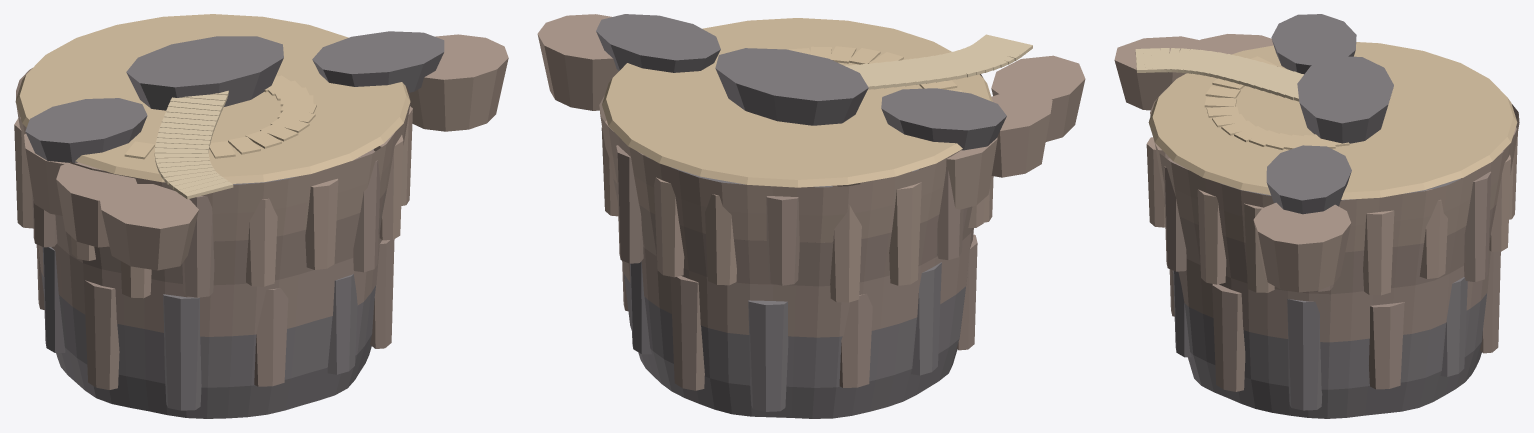
The model's file is world14-ruins-terrain.glb.
3 renders of one model, left to right at view 1: azimuth 30°, elevation 25°; view 2: azimuth 150°, elevation 25°; view 3: azimuth 270°, elevation 25°, orthographic. The views are drawn at different scales.
Visible parts, largest first — view 1: w14-ground-high-rock, w14-ground-strata, w14-ground-limestone, w14-ground-shadow-rock, w14-overhead-shadow-rock, w14-ground-paving, w14-ground-path; view 2: w14-ground-high-rock, w14-ground-strata, w14-ground-limestone, w14-ground-shadow-rock, w14-overhead-shadow-rock, w14-ground-paving, w14-ground-path; view 3: w14-ground-high-rock, w14-ground-limestone, w14-ground-strata, w14-ground-shadow-rock, w14-overhead-shadow-rock, w14-ground-paving, w14-ground-path.
Part boxes in pixels (x1,y1,x2,y2): w14-ground-high-rock: (14,34,508,298); w14-ground-strata: (32,150,394,389); w14-ground-limestone: (15,14,410,183); w14-ground-shadow-rock: (41,149,375,418); w14-overhead-shadow-rock: (25,31,444,162); w14-ground-paving: (154,90,233,199); w14-ground-path: (124,75,316,159); w14-ground-high-rock: (537,14,1085,302); w14-ground-strata: (613,145,977,390); w14-ground-limestone: (602,18,992,187); w14-ground-shadow-rock: (624,157,965,418); w14-overhead-shadow-rock: (596,14,1006,150); w14-ground-paving: (844,34,1032,89); w14-ground-path: (788,46,962,92); w14-ground-high-rock: (1114,34,1519,295); w14-ground-limestone: (1148,42,1517,199); w14-ground-strata: (1164,158,1500,391); w14-ground-shadow-rock: (1173,178,1486,418); w14-overhead-shadow-rock: (1266,14,1393,214); w14-ground-paving: (1135,48,1303,101); w14-ground-path: (1204,56,1349,149).
Bounding box in the file's own units: 82.85 × 48.11 × 66.07.
